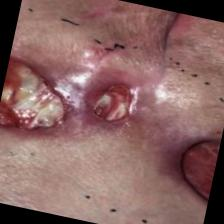pressure-wound: (0, 42, 79, 144), (154, 119, 223, 218), (75, 72, 146, 132)
